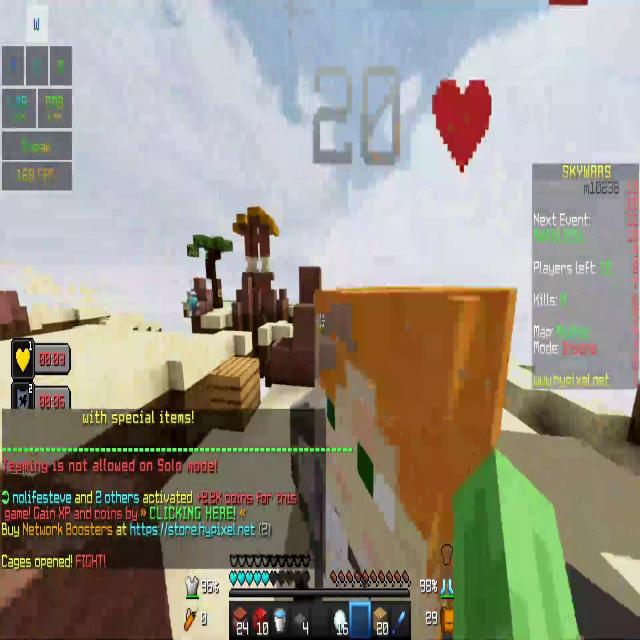Player: (282, 270, 519, 640), (182, 279, 201, 323)
